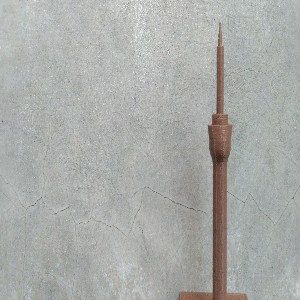solder: (207, 22, 234, 300)
